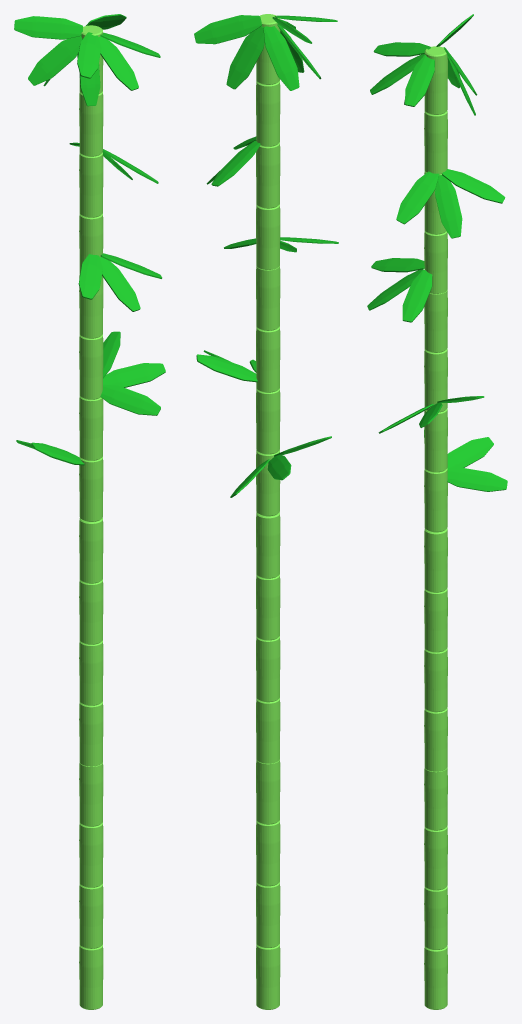
Rendered from Bamboo.fbx.
3 renders of one model, left to right at view 1: azimuth 30°, elevation 25°; view 2: azimuth 150°, elevation 25°; view 3: azimuth 270°, elevation 25°, orthographic. The views are drawn at different scales.
Parts seen in each view (by area): view 1: Cylinder; view 2: Cylinder; view 3: Cylinder.
Boxes of the visible parts, bbox=[...] form: Cylinder: bbox=[14, 14, 165, 1009]; Cylinder: bbox=[194, 14, 338, 1009]; Cylinder: bbox=[367, 14, 507, 1009].
Size of the model in its own units: 1025 by 7560 by 996.
